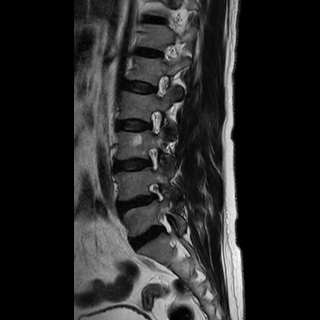RFS0: (142, 102, 170, 140), (146, 68, 175, 102), (141, 141, 167, 174), (143, 175, 168, 207)
